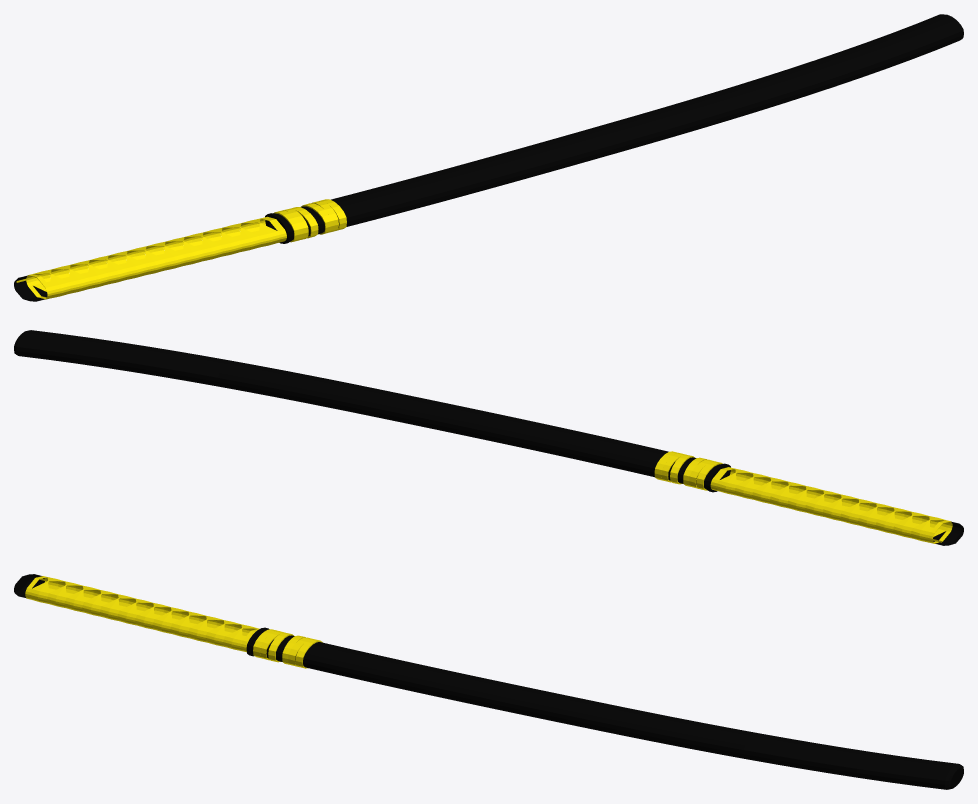
The model's file is MachBlade.fbx.
3 views of the same model, one above another, from view 1: azimuth 30°, elevation 25°; view 2: azimuth 150°, elevation 25°; view 3: azimuth 330°, elevation 25° (orthographic). The views are drawn at different scales.
Parts seen in each view (by area): view 1: 鞘, 柄; view 2: 鞘, 柄; view 3: 鞘, 柄.
Boxes of the visible parts, box(x1,y1,x2,y2) form: 鞘: box(265, 14, 963, 243); 柄: box(14, 216, 286, 301); 鞘: box(14, 330, 730, 492); 柄: box(710, 467, 963, 545); 鞘: box(246, 627, 963, 789); 柄: box(14, 574, 259, 652).
Bounding box in the file's own units: 200 × 4.75 × 21.63.
